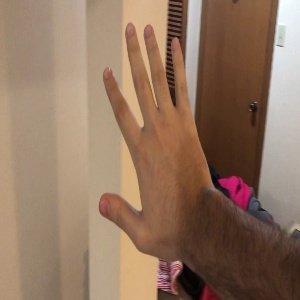hand: (99, 24, 214, 252)
